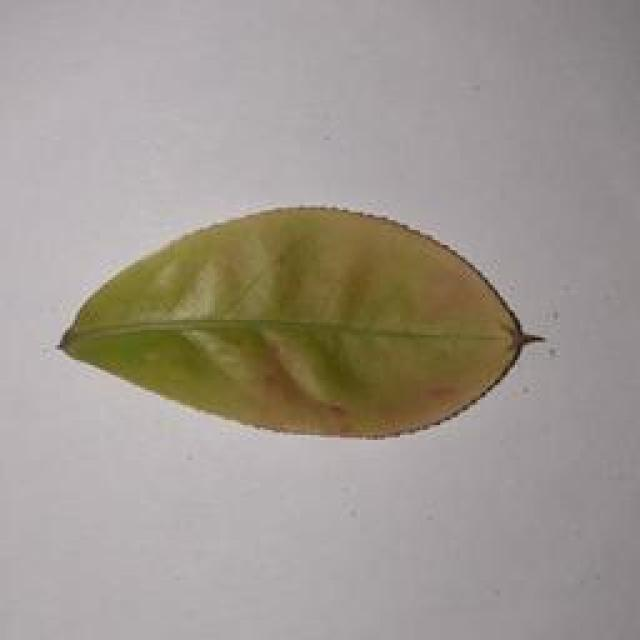Red Leaf Spot: (35, 204, 530, 443)
